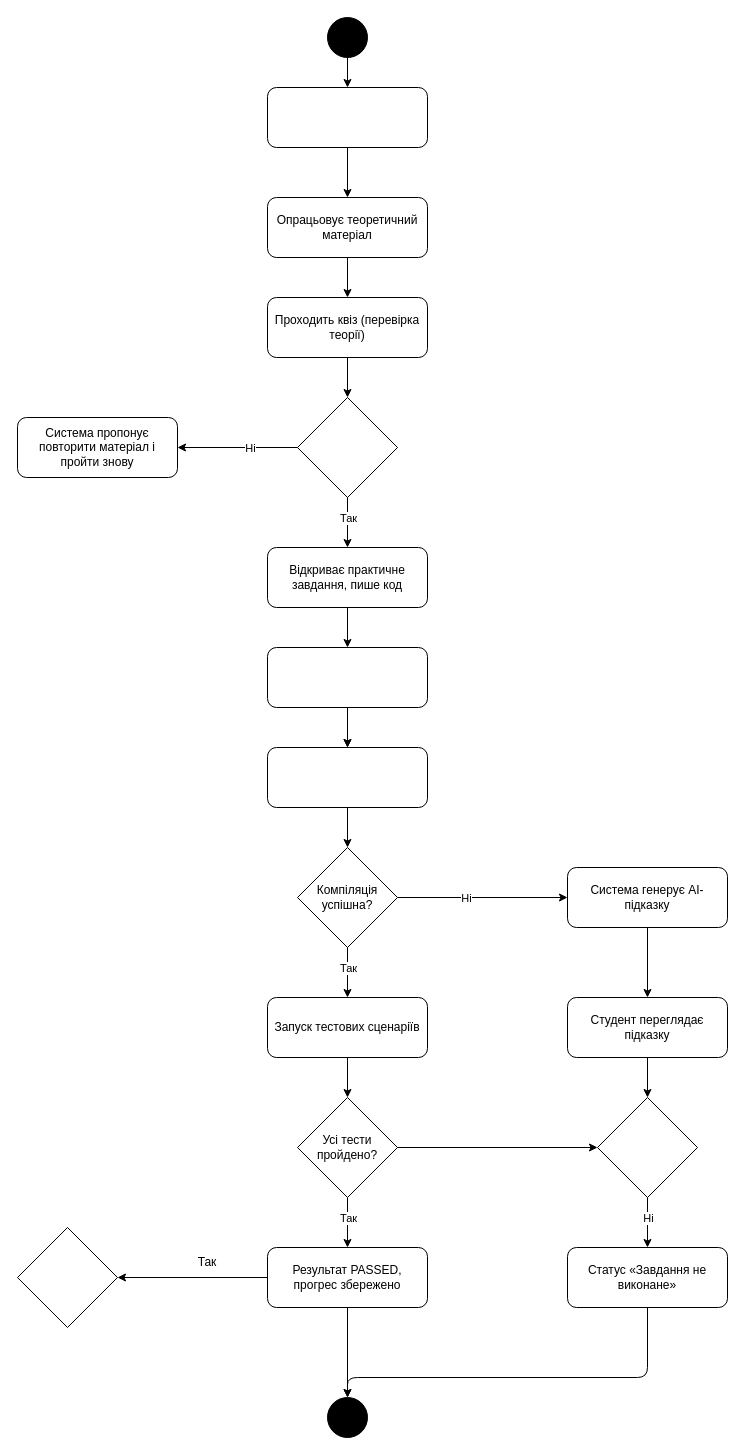
This 745x1455 diagram has some shape labels left out. Each missing label, with the centre of its shape:
"Відповіді правильні?" goes at (347,447).
"Модуль завершено?" goes at (67,1277).
"Натискає «Run & Check»" goes at (347,677).
"Система компілює код (Godbolt API)" goes at (347,777).
"Спроби залишились?" goes at (647,1147).
"Студент відкриває урок навчального модуля" goes at (347,117).
